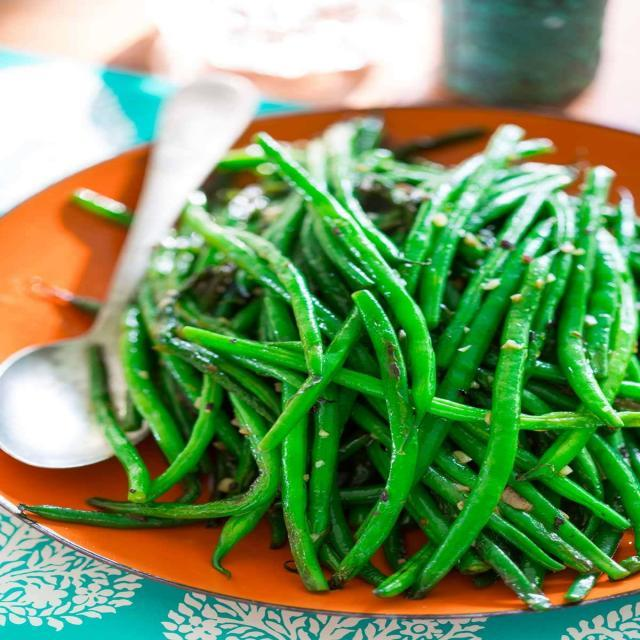Beans: (32, 126, 639, 600)
